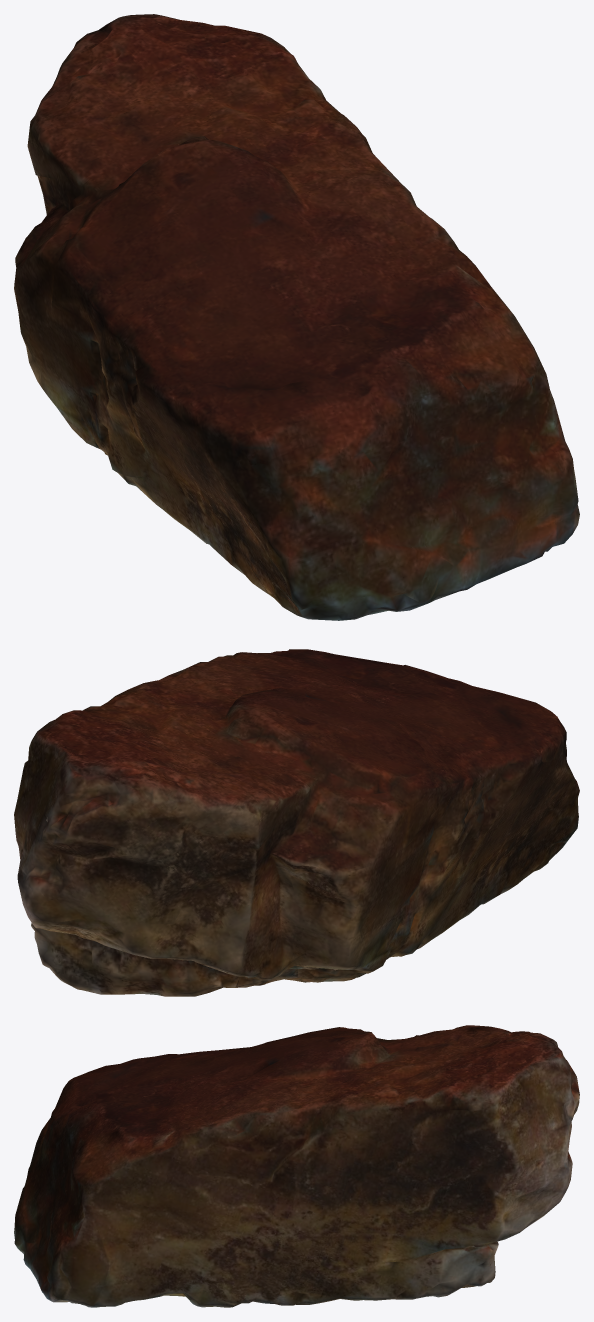
Rendered from rock1.glb.
3 views of the same model, one above another, from view 1: azimuth 30°, elevation 25°; view 2: azimuth 150°, elevation 25°; view 3: azimuth 270°, elevation 25° (orthographic). The views are drawn at different scales.
Parts seen in each view (by area): view 1: rock_07; view 2: rock_07; view 3: rock_07.
Boxes of the visible parts, x1=… form: rock_07: x1=14, y1=14, x2=579, y2=620; rock_07: x1=14, y1=649, x2=579, y2=996; rock_07: x1=14, y1=1025, x2=579, y2=1307.
Size of the model in its own units: 0.1686 by 0.1437 by 0.3202.
1 material, 1 textured.
